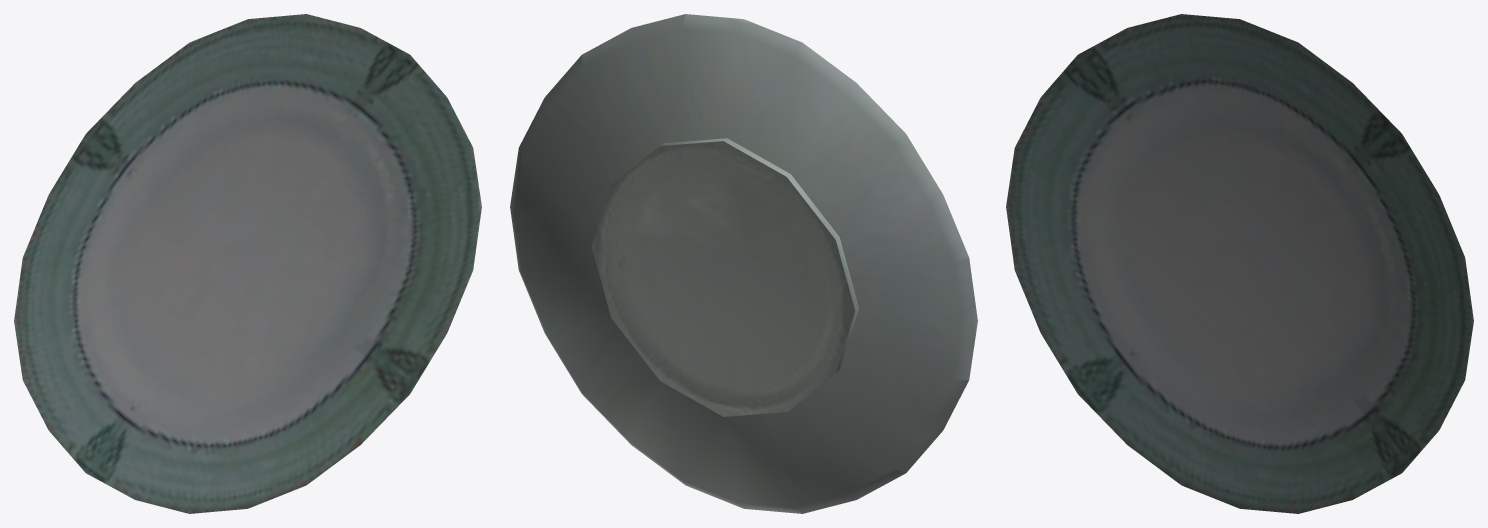
Rendered from p_us_restaurant_plate_LOD1.obj.
3 renders of one model, left to right at view 1: azimuth 30°, elevation 25°; view 2: azimuth 150°, elevation 25°; view 3: azimuth 330°, elevation 25°, orthographic.
Parts seen in each view (by area): view 1: mtl_p_us_restaurant_plate; view 2: mtl_p_us_restaurant_plate; view 3: mtl_p_us_restaurant_plate.
Boxes of the visible parts, left/top/right/bottom form: mtl_p_us_restaurant_plate: left=14, top=14, right=481, bottom=513; mtl_p_us_restaurant_plate: left=510, top=14, right=977, bottom=513; mtl_p_us_restaurant_plate: left=1006, top=14, right=1473, bottom=513.
Bounding box in the file's own units: 33.89 × 33.89 × 2.57.
